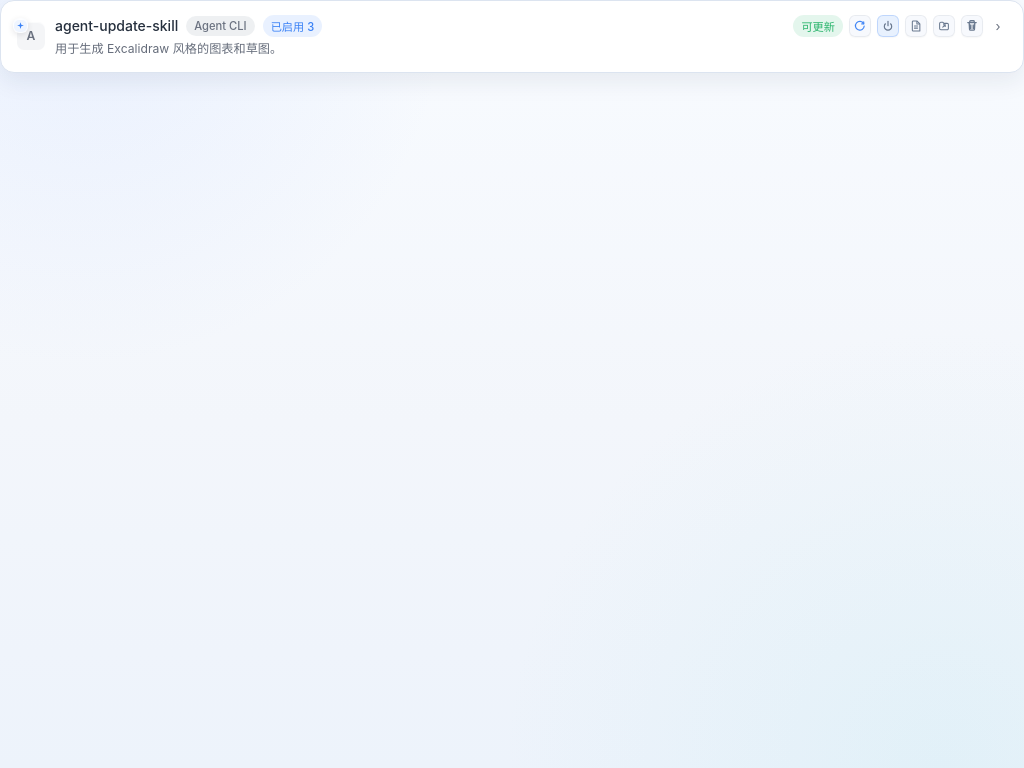
Test case: opens update contents for an Agent CLI-managed skill
This screenshot has width=1024, height=768.
Click the button named "查看 agent-update-skill 更新预览": (916,26) x1=905 y1=15 x2=927 y2=37
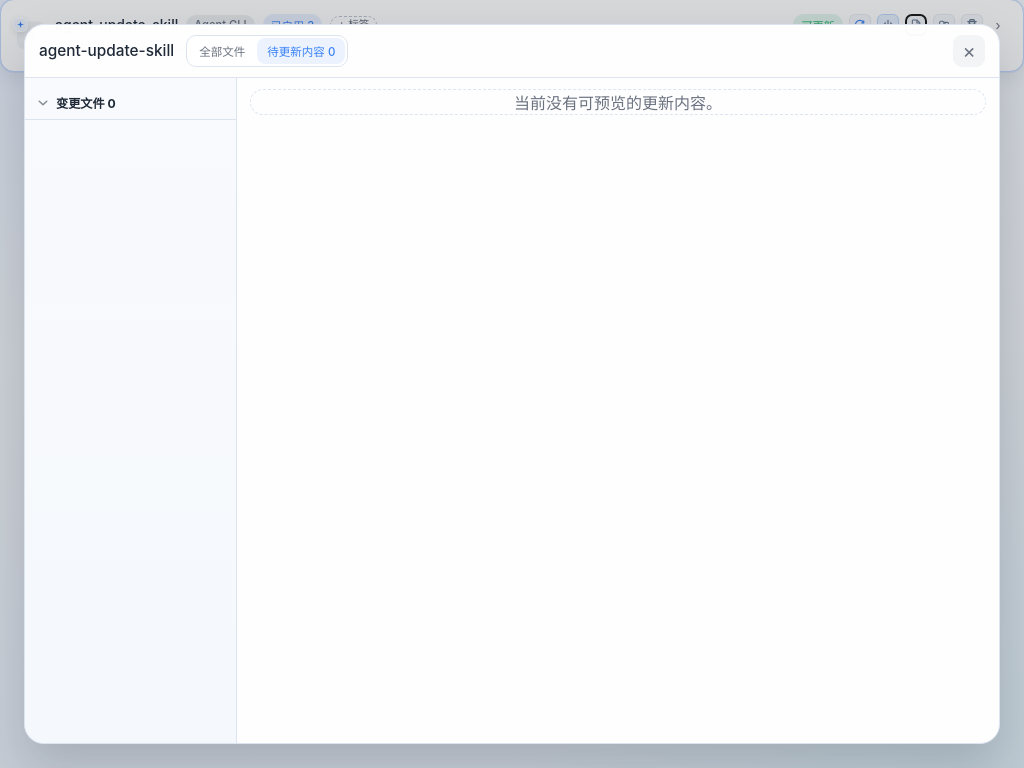
Expected: the dialog "agent-update-skill" is shown
